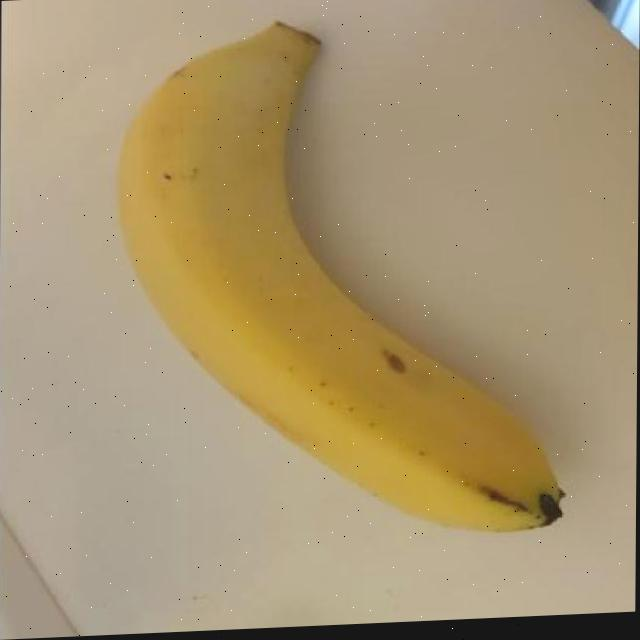banana: (98, 8, 585, 555)
